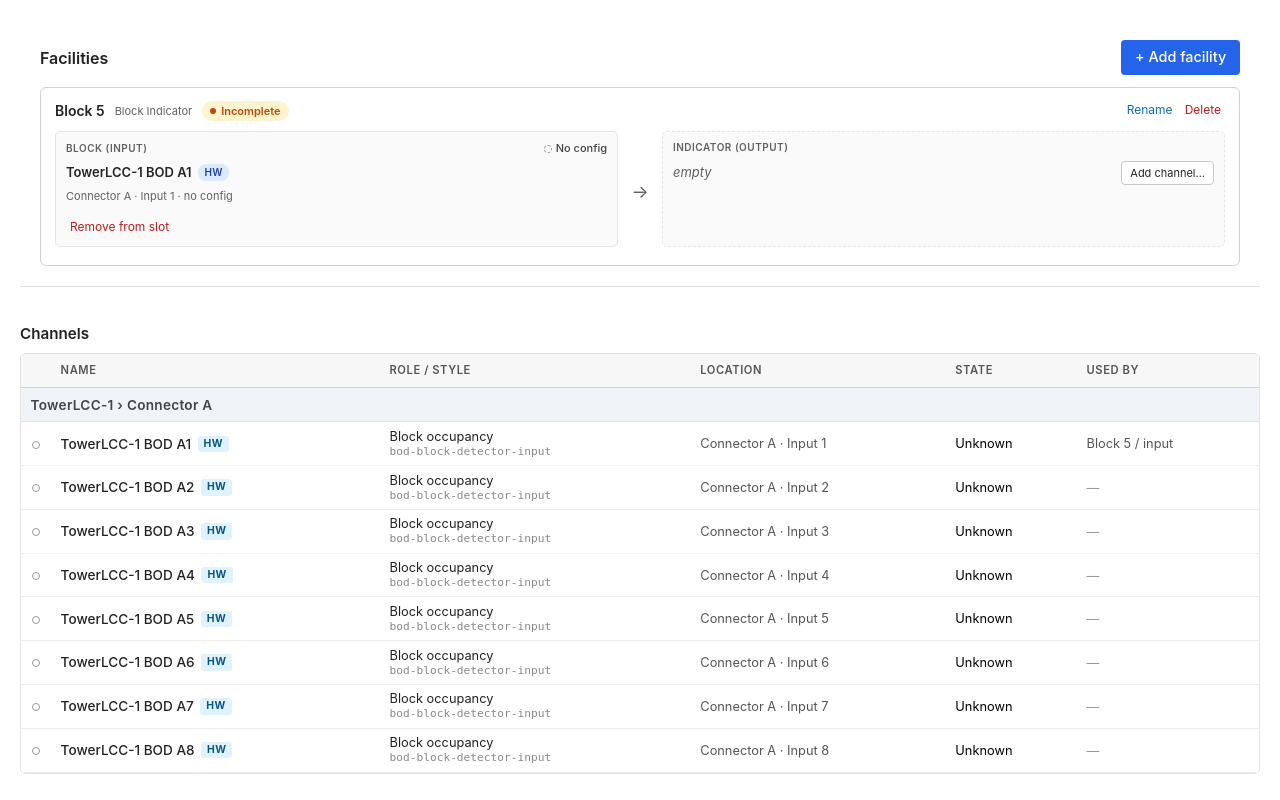
Test: Spec 018 / S4 — Select-channel user journey (integration) › AC(f): Remove-from-slot empties the slot + clears Used by
Click the button with test id "remove-from-slot-button": (120, 227) left=66, top=217, right=173, bottom=238
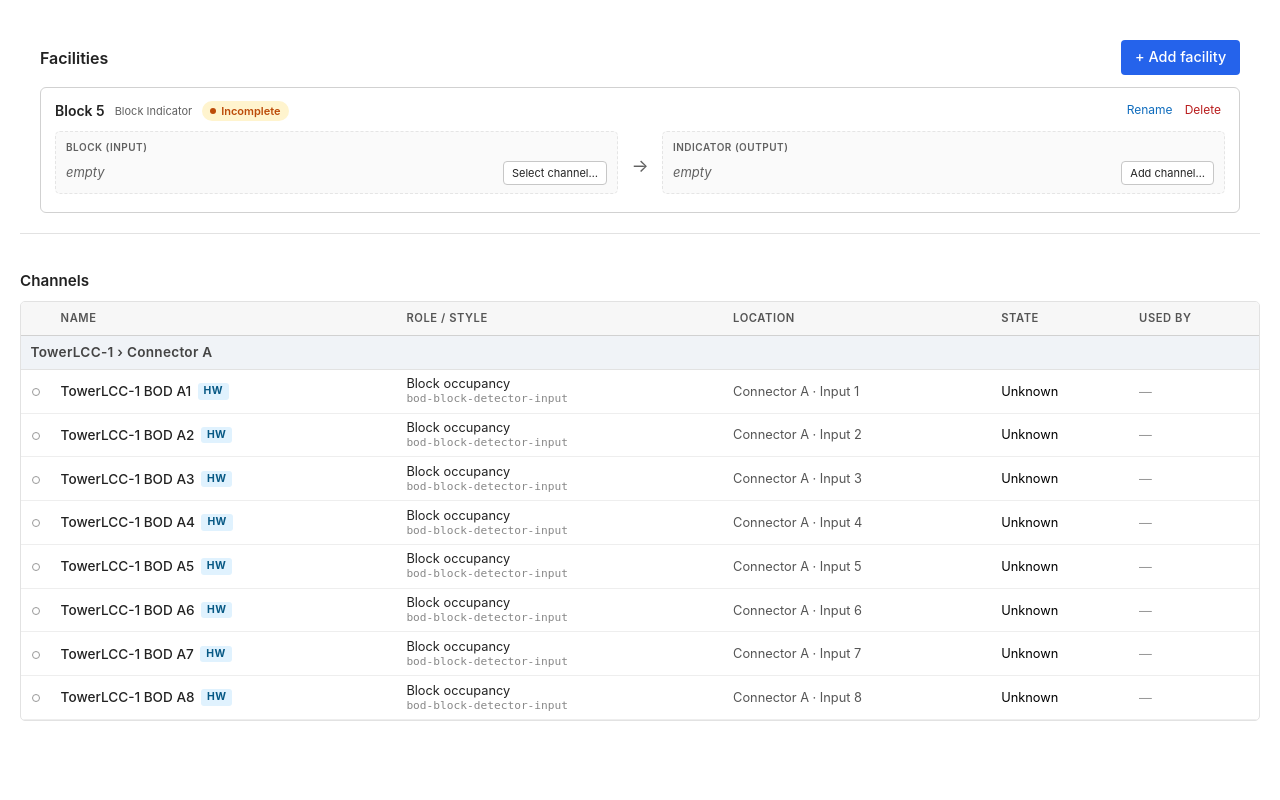
Result: the cell "—" in the row of "Connector A · Input 1" is shown at left=1139, top=384, right=1152, bottom=399
Result: the button with test id "select-channel-button" is shown at left=503, top=161, right=607, bottom=185
